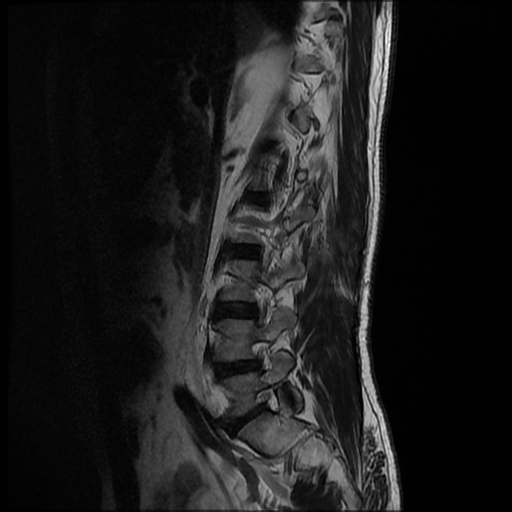RFS0: (242, 331, 283, 377), (249, 381, 289, 421)
